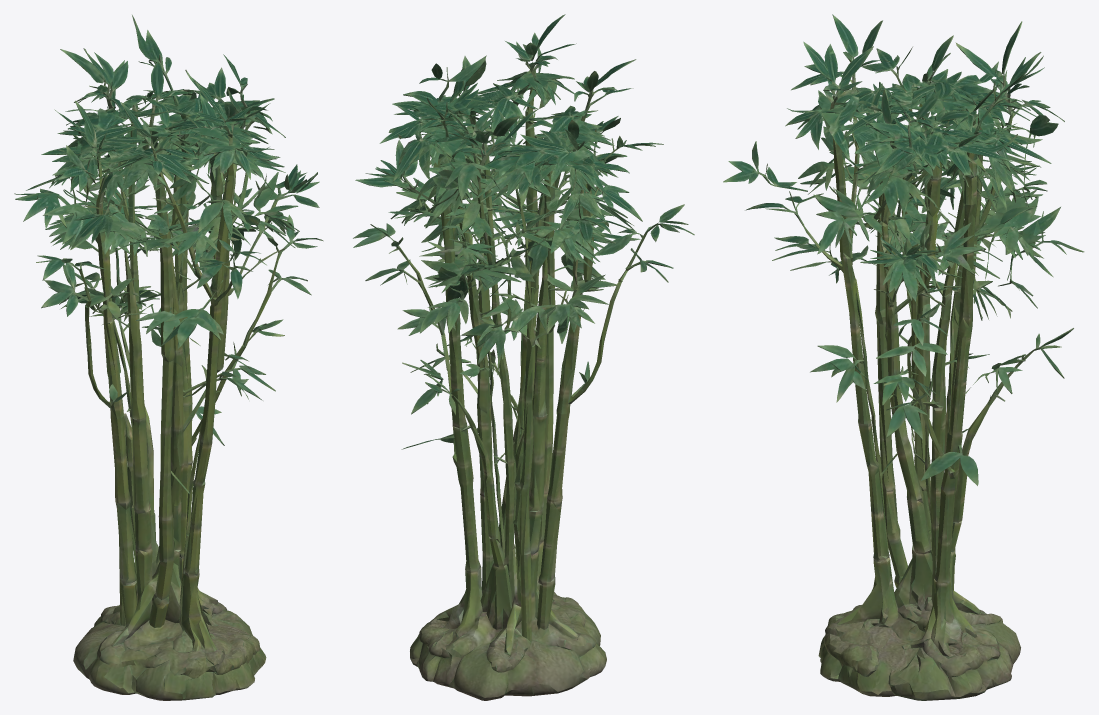
The model's file is bamboo.glb.
The picture shows the model from 3 angles, left to right: view 1: azimuth 30°, elevation 25°; view 2: azimuth 150°, elevation 25°; view 3: azimuth 270°, elevation 25°; orthographic projection. The views are drawn at different scales.
Size of the model in its own units: 1.03 by 1.9 by 1.
1 material, 1 textured.
